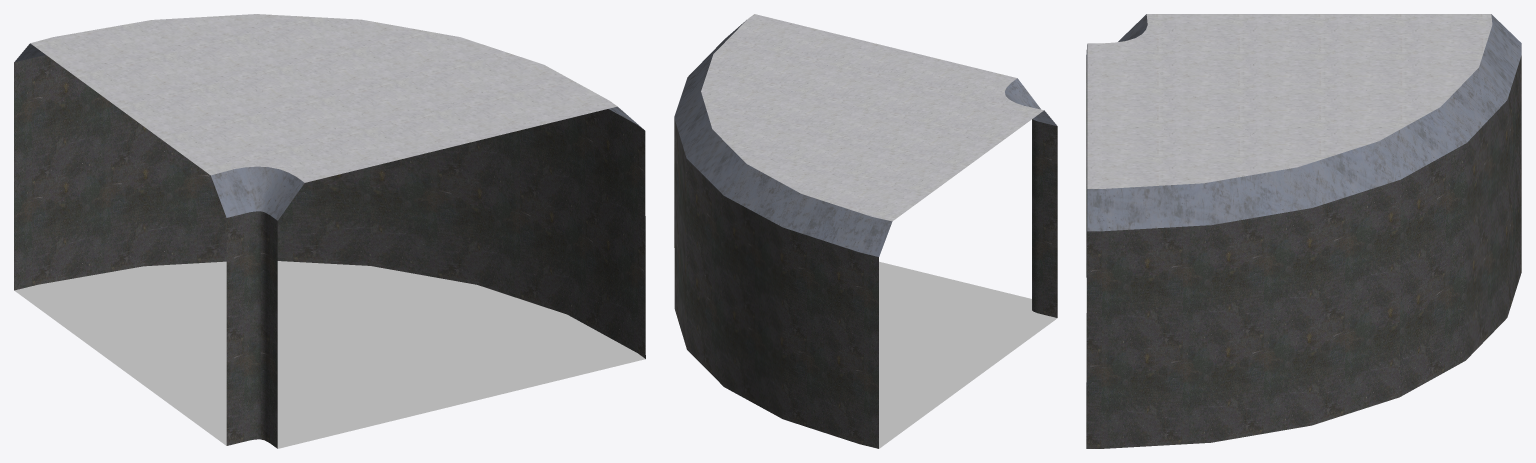
File: starship_right_corner.FBX
3 renders of one model, left to right at view 1: azimuth 30°, elevation 25°; view 2: azimuth 150°, elevation 25°; view 3: azimuth 270°, elevation 25°, orthographic. The views are drawn at different scales.
Visible parts, largest first — view 1: RightCorner; view 2: RightCorner; view 3: RightCorner.
Part boxes in pixels (x1,y1,x2,y2): RightCorner: (14,14,645,448); RightCorner: (674,14,1057,448); RightCorner: (1086,14,1521,448).
Bounding box in the file's own units: 2.67 × 1.64 × 2.61.
